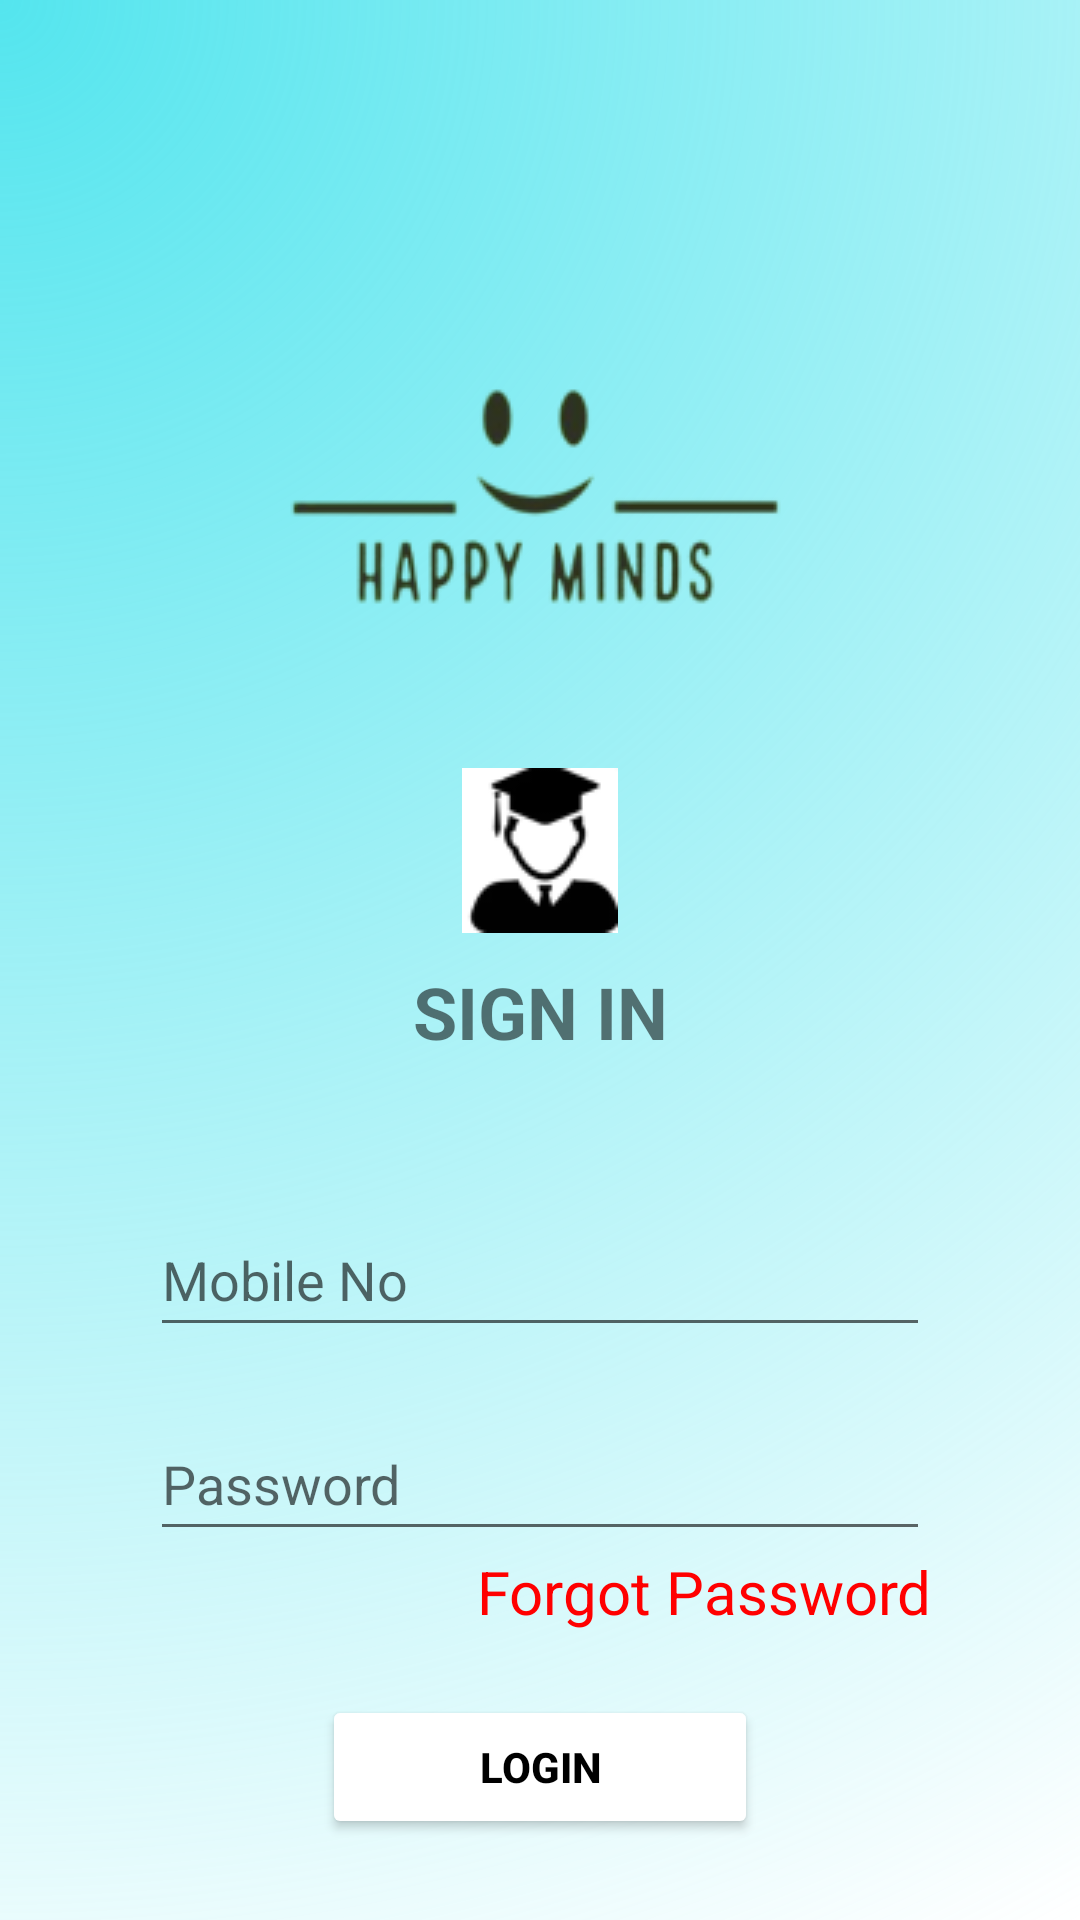

Screen size 1080x1920. Icon name, then its center in pixels as (x=x, y=y):
student: (x=540, y=850)
